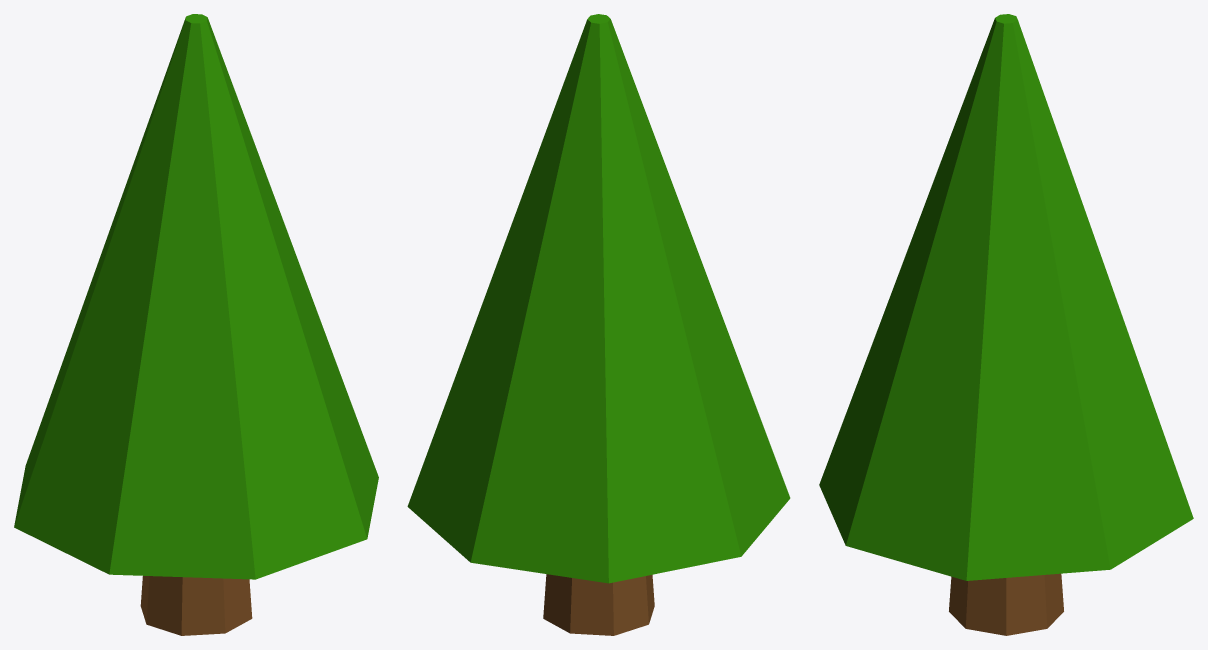
File: TreeLOD3.fbx
The picture shows the model from 3 angles, left to right: view 1: azimuth 30°, elevation 25°; view 2: azimuth 150°, elevation 25°; view 3: azimuth 270°, elevation 25°; orthographic projection.
Parts seen in each view (by area): view 1: Cylinder.011; view 2: Cylinder.011; view 3: Cylinder.011.
Part boxes in pixels (box(x1,y1,x2,y2)): Cylinder.011: box(14, 14, 378, 635); Cylinder.011: box(407, 14, 790, 635); Cylinder.011: box(819, 14, 1193, 635).
Bounding box in the file's own units: 464 × 810 × 464.
